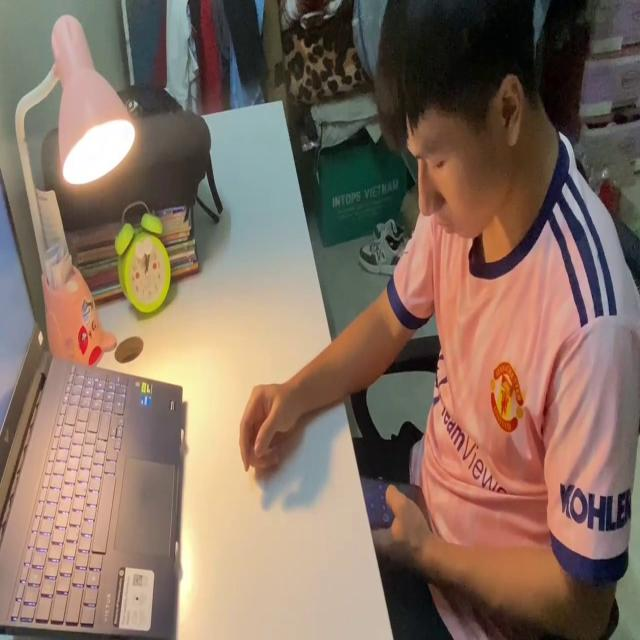laptop: (0, 161, 186, 640)
phone: (354, 465, 435, 550)
student: (238, 1, 640, 640)
